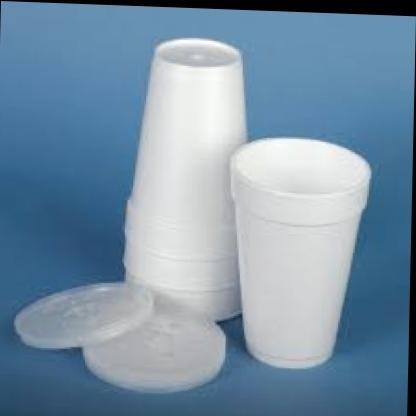trash: (124, 38, 245, 319), (231, 138, 370, 367)
